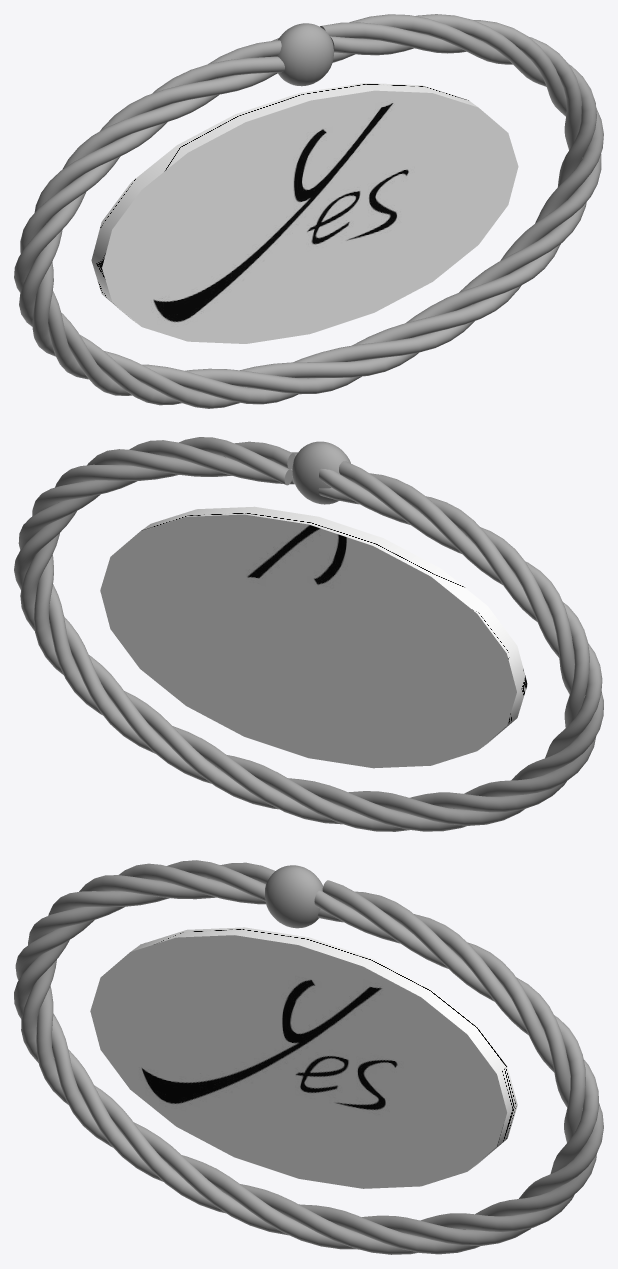
Rendered from sign - yes.fbx.
3 views of the same model, one above another, from view 1: azimuth 30°, elevation 25°; view 2: azimuth 150°, elevation 25°; view 3: azimuth 330°, elevation 25° (orthographic).
Visible parts, largest first — view 1: polySurface6; view 2: polySurface6; view 3: polySurface6.
Boxes of the visible parts, box(x1,y1,x2,y2) form: polySurface6: box(14, 14, 603, 408); polySurface6: box(14, 437, 603, 831); polySurface6: box(14, 860, 603, 1254).
Bounding box in the file's own units: 44.55 × 27.21 × 3.49.
Materials: 3 (1 with a texture image).
